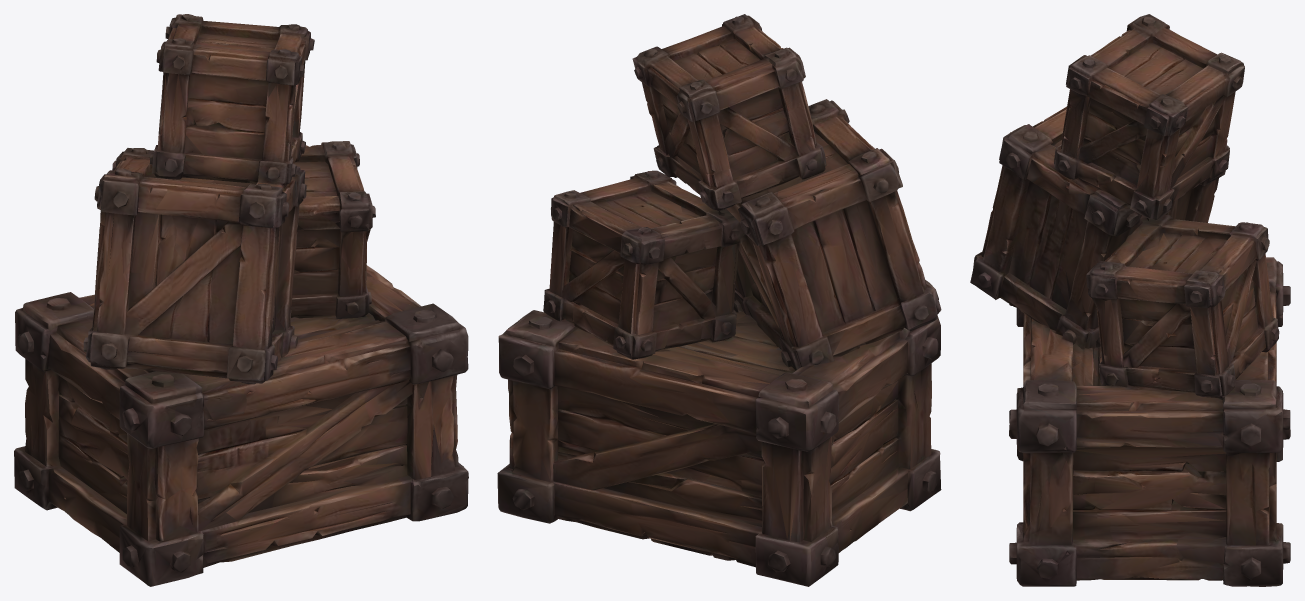
The model's file is mine_crates_stack_idle.glb.
3 renders of one model, left to right at view 1: azimuth 30°, elevation 25°; view 2: azimuth 150°, elevation 25°; view 3: azimuth 270°, elevation 25°, orthographic. The views are drawn at different scales.
Visible parts, largest first — view 1: tripo_node_b8d77e25-3aa5-4eb7-83d6-b9b2a0e303c7; view 2: tripo_node_b8d77e25-3aa5-4eb7-83d6-b9b2a0e303c7; view 3: tripo_node_b8d77e25-3aa5-4eb7-83d6-b9b2a0e303c7.
Part boxes in pixels (x1,y1,x2,y2): tripo_node_b8d77e25-3aa5-4eb7-83d6-b9b2a0e303c7: [14, 14, 468, 586]; tripo_node_b8d77e25-3aa5-4eb7-83d6-b9b2a0e303c7: [497, 14, 941, 586]; tripo_node_b8d77e25-3aa5-4eb7-83d6-b9b2a0e303c7: [970, 14, 1290, 586].
Bounding box in the file's own units: 1.17 × 1.5 × 0.939.
Materials: 1 (1 with a texture image).
